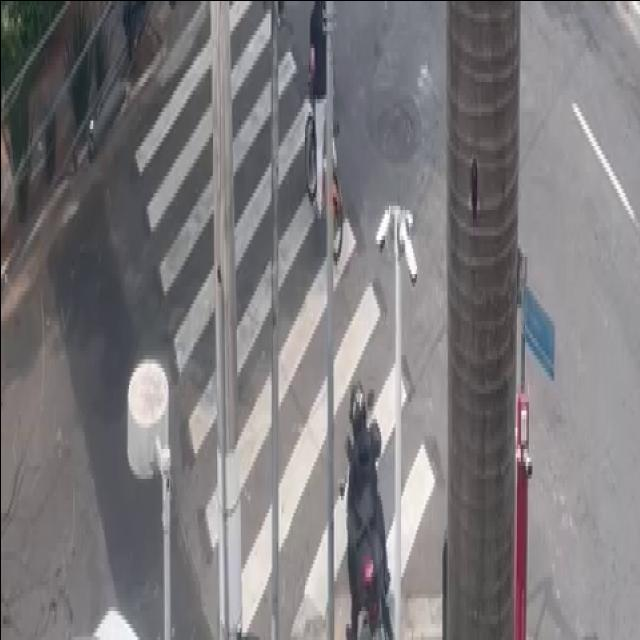bicycle: (301, 0, 344, 261)
motorbike: (333, 388, 395, 640)
